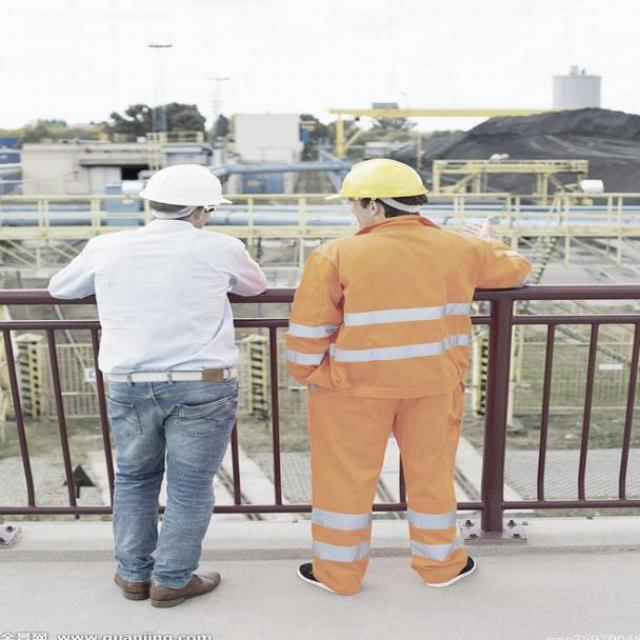helmet: (311, 154, 445, 228), (118, 154, 234, 226)
vest: (279, 233, 497, 407)
